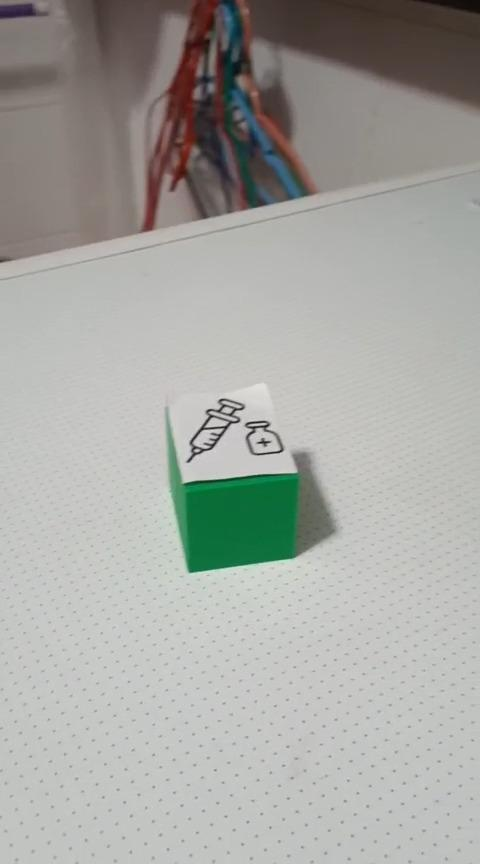antiseptic cream: (162, 380, 301, 573)
